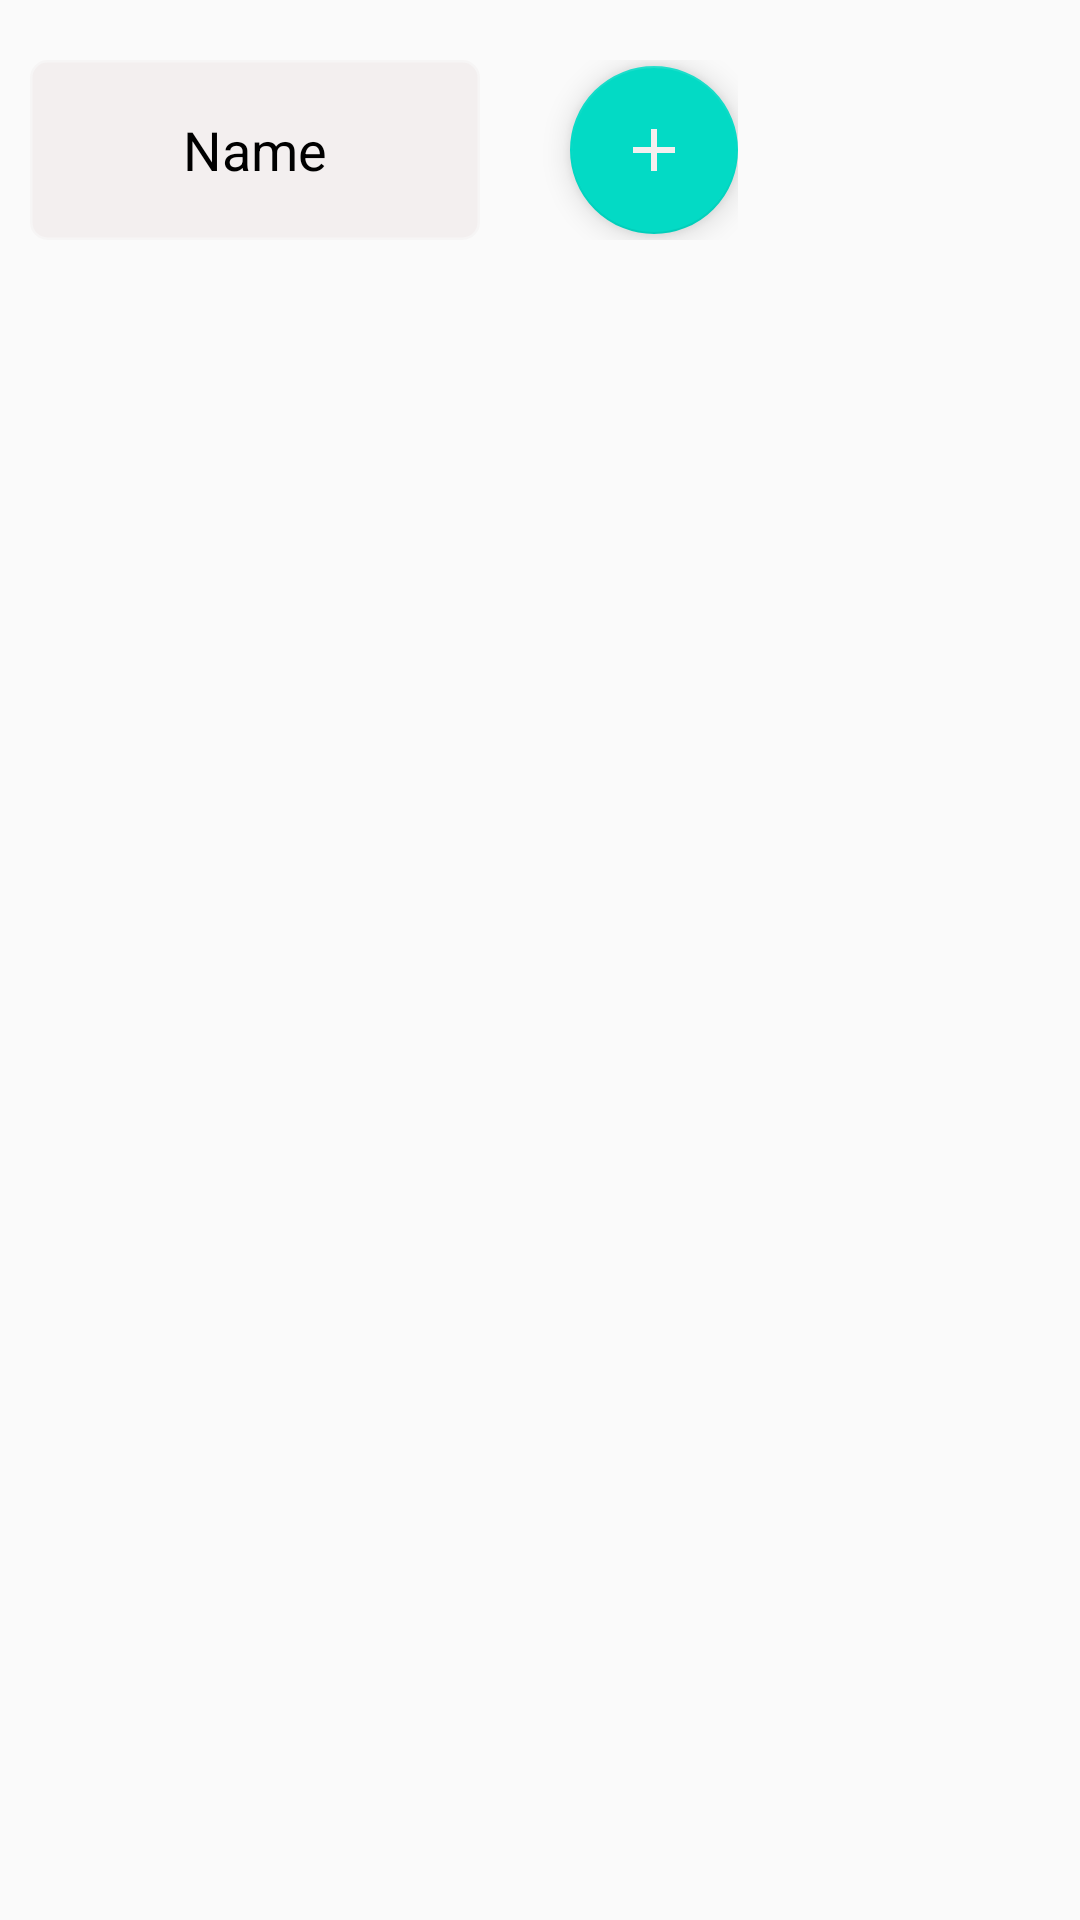

Point at icon controls on the screen. Image size 1080 x 1920, points as [x,y].
add: [654,150]
